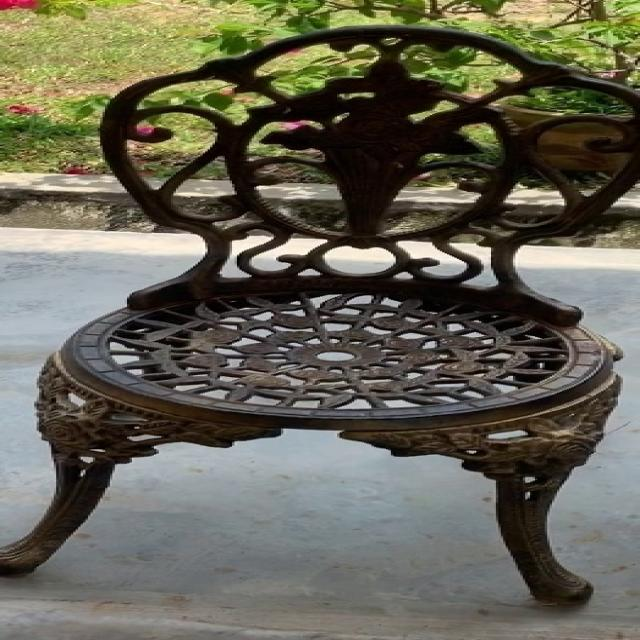chair: (2, 23, 640, 611)
